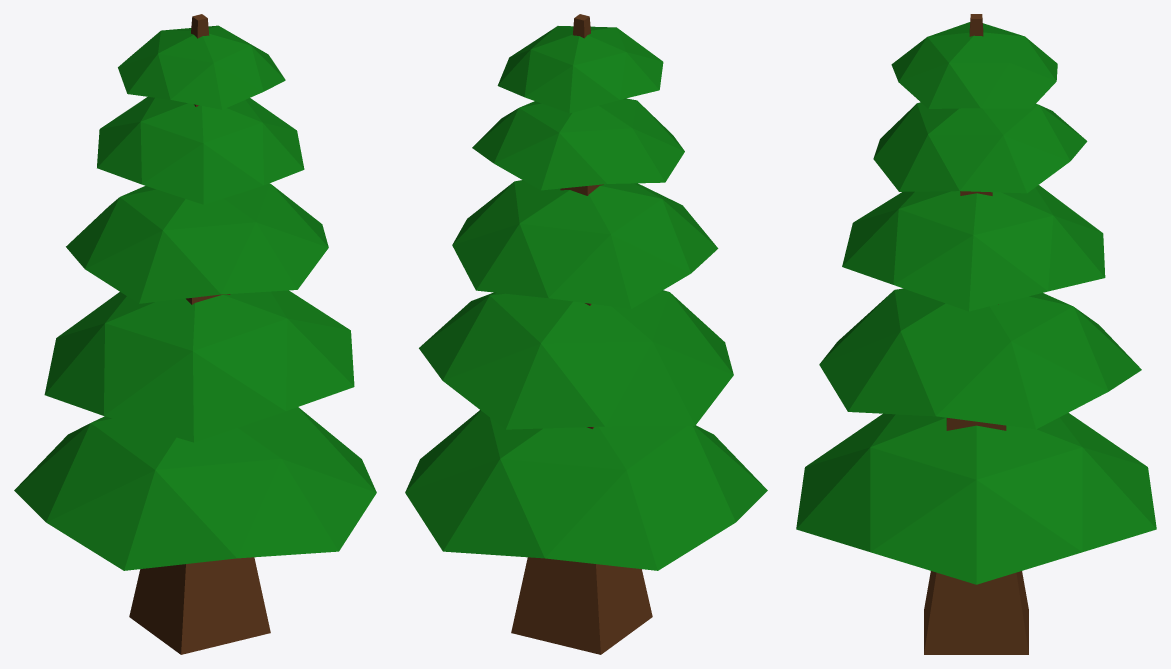
The model's file is treeone.fbx.
3 renders of one model, left to right at view 1: azimuth 30°, elevation 25°; view 2: azimuth 150°, elevation 25°; view 3: azimuth 270°, elevation 25°, orthographic.
Parts seen in each view (by area): view 1: Plane; view 2: Plane; view 3: Plane.
Boxes of the visible parts, x1,y1,x2,y2 form: Plane: (14, 14, 376, 654); Plane: (405, 14, 767, 654); Plane: (796, 14, 1156, 654).
Size of the model in its own units: 634 by 1165 by 618.
